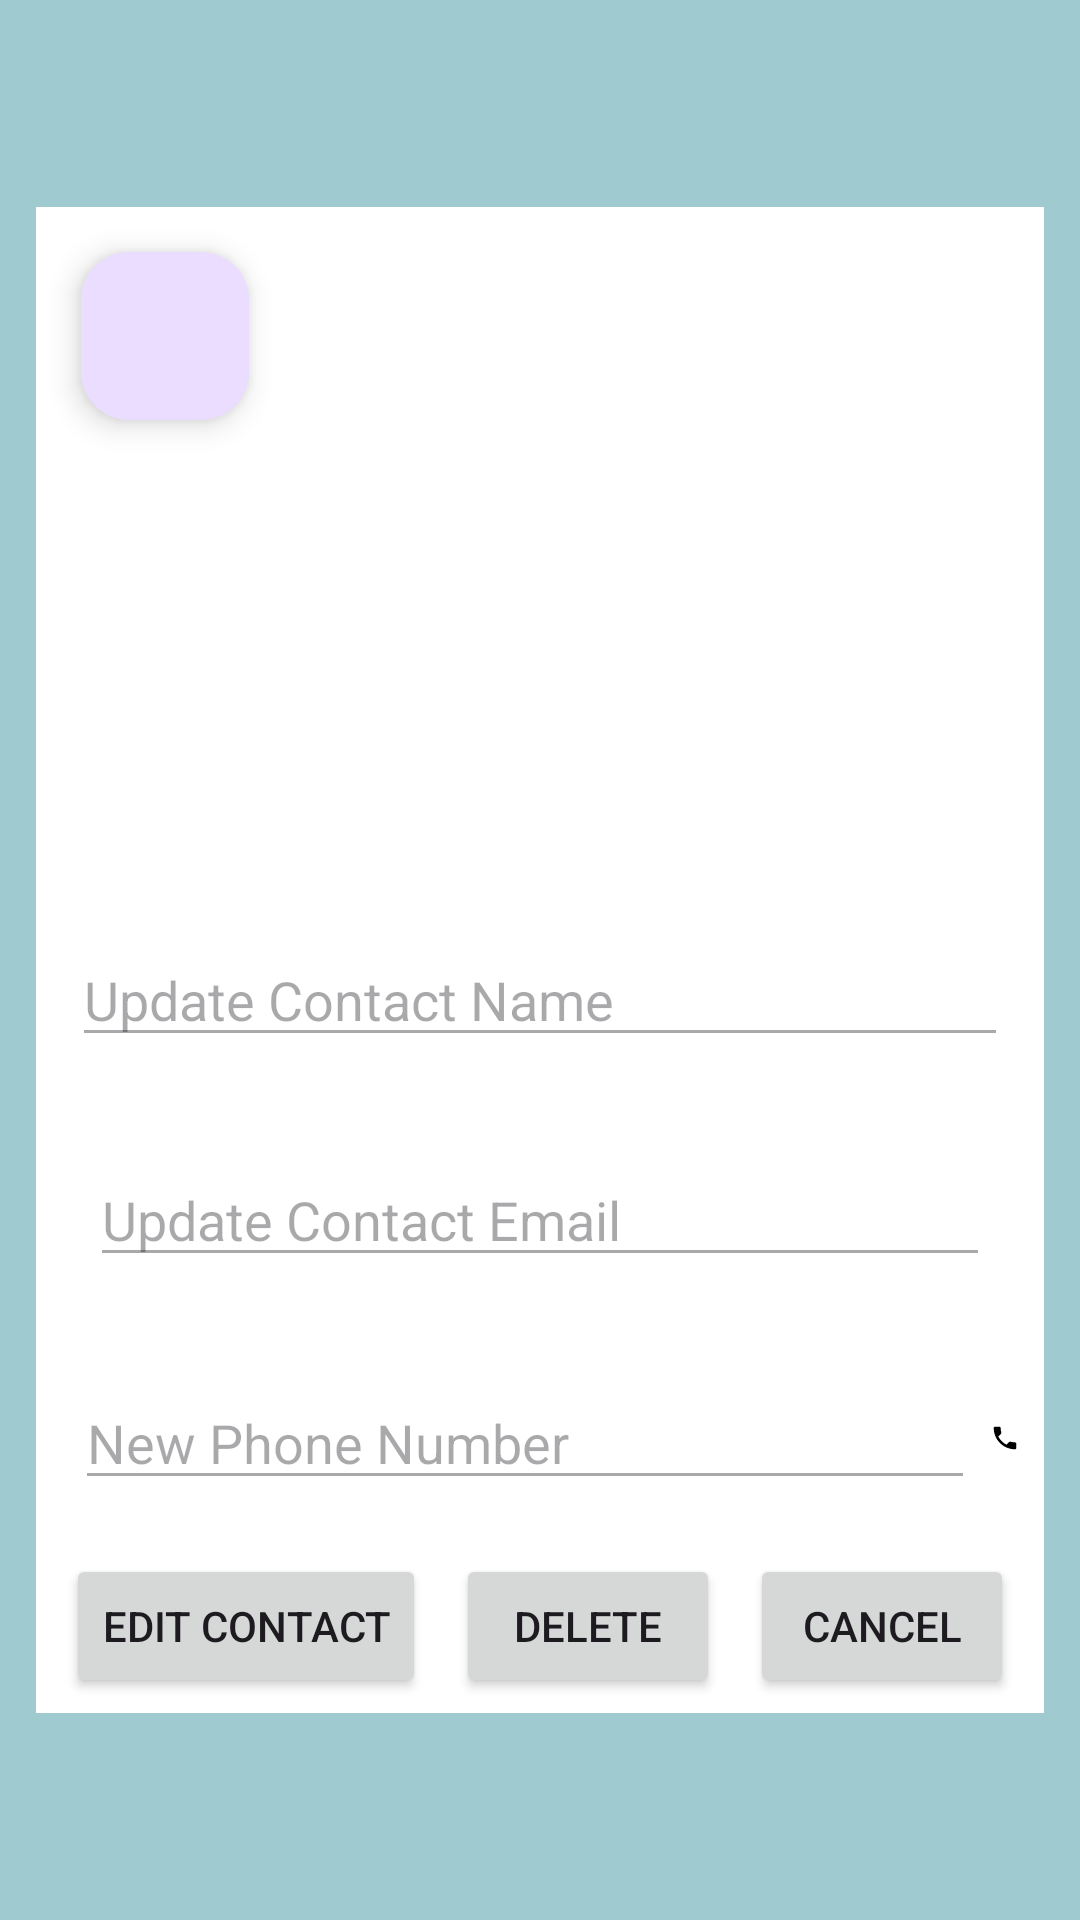

Icon bounding boxes for this 1080×1920 phone screenshot, format {"x1": x1, "y1": y1, "x2": x2, "y2": y2}:
local phone: {"x1": 993, "y1": 1426, "x2": 1017, "y2": 1450}
